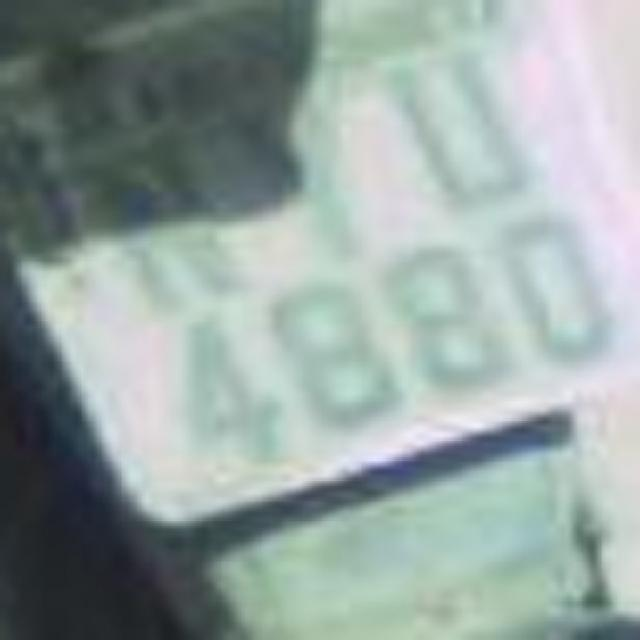0: (484, 184, 636, 376)
4: (145, 271, 320, 484)
8: (248, 244, 424, 444)
9: (376, 215, 529, 420)
U: (356, 15, 549, 220)
